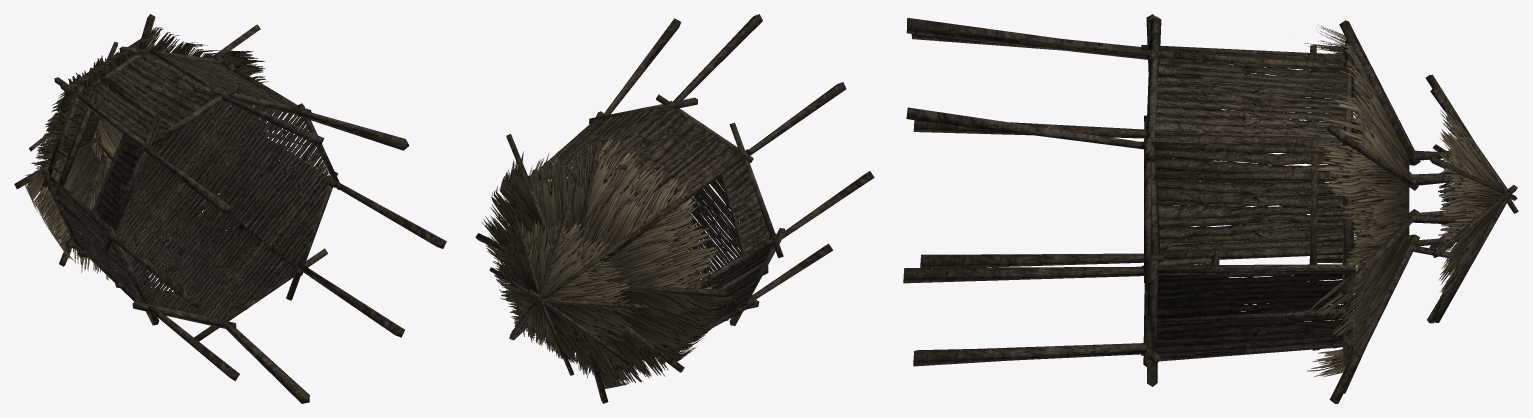
Rendered from Shack_04_LOD_01.fbx.
3 views of the same model, side by side, from view 1: azimuth 30°, elevation 25°; view 2: azimuth 150°, elevation 25°; view 3: azimuth 270°, elevation 25° (orthographic). The views are drawn at different scales.
Parts seen in each view (by area): view 1: MEP_Shack_04_LOD_01; view 2: MEP_Shack_04_LOD_01; view 3: MEP_Shack_04_LOD_01.
Part boxes in pixels (x1,y1,x2,y2): MEP_Shack_04_LOD_01: (14,14,446,403); MEP_Shack_04_LOD_01: (475,14,874,403); MEP_Shack_04_LOD_01: (903,14,1518,403).
Size of the model in its own units: 8.23 by 8.08 by 11.94.
